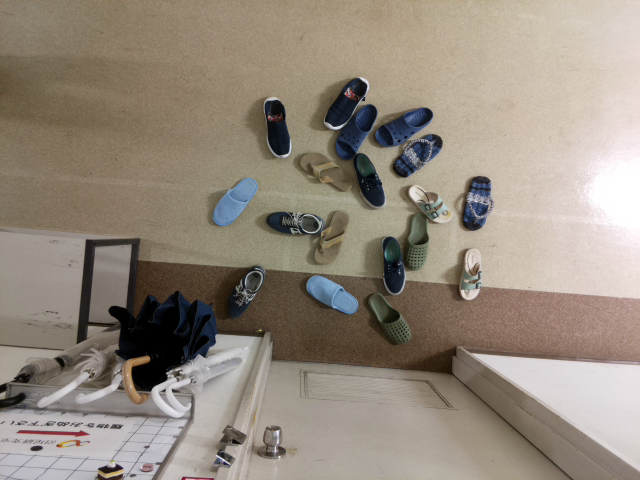Copy of Copy of Copy of Copy of Copy of sandal: (392, 133, 443, 177)
Copy of Copy of Copy of Copy of Copy of shoe: (354, 151, 386, 209)
Copy of Copy of Copy of Copy of Copy of slipper: (374, 106, 433, 146)
Copy of Copy of Copy of Copy of sandal: (313, 209, 350, 266)
Copy of Copy of Copy of Copy of shoe: (264, 210, 324, 235)
Copy of Copy of Copy of Copy of slipper: (334, 103, 378, 160)
Copy of Copy of Copy of sandal: (298, 151, 353, 192)
Copy of Copy of Copy of shoe: (224, 264, 267, 318)
Copy of Copy of Copy of slipper: (404, 212, 430, 270)
Copy of Copy of sandal: (407, 184, 453, 224)
Copy of Copy of shoe: (380, 235, 406, 296)
Copy of Copy of slipper: (366, 292, 412, 345)
Copy of sandal: (457, 247, 483, 301)
Copy of shoe: (322, 75, 370, 130)
Copy of slipper: (305, 274, 358, 314)
sandal: (462, 175, 493, 231)
shoe: (262, 95, 292, 158)
slipper: (211, 174, 257, 228)
